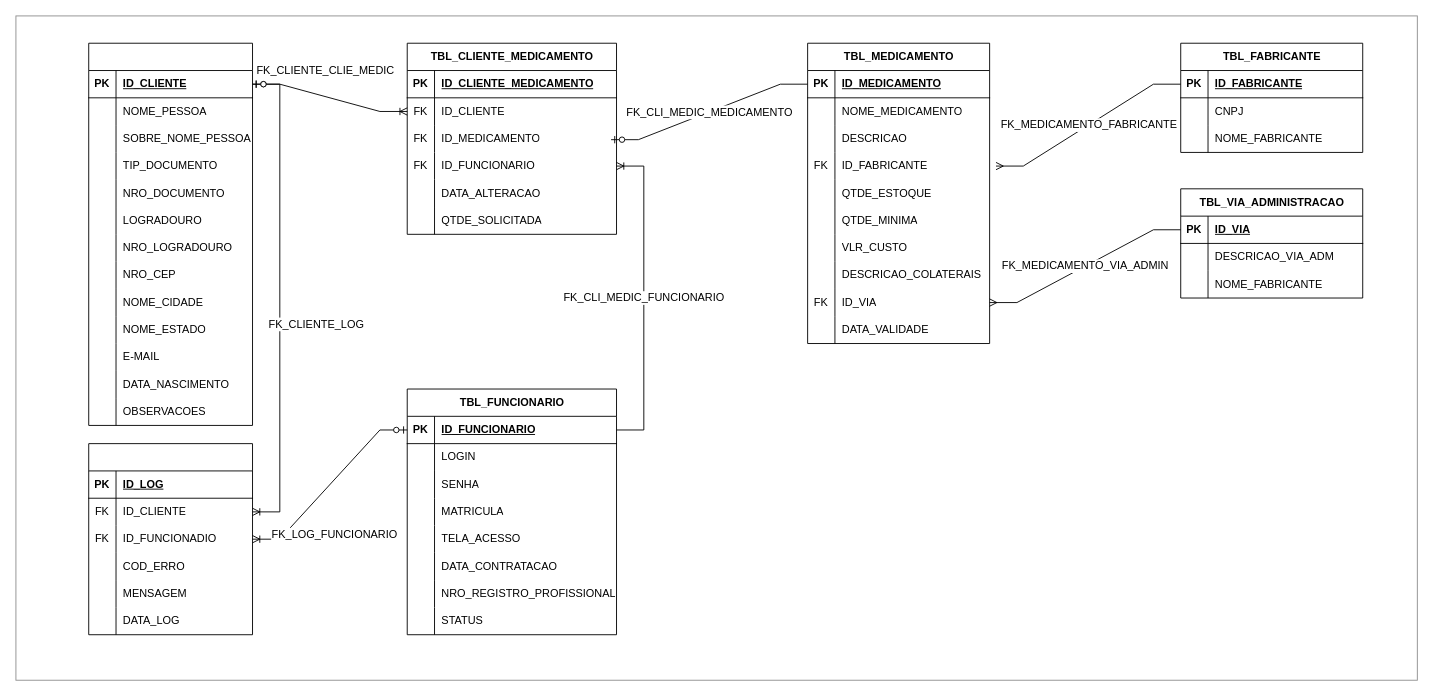
The diagram is 1433 pixels wide and 696 high, and some of its shapes have lost their labels. Here are the shapes that lost their labels. From the top down, the box of each, then its label:
(88, 42, 253, 425): TBL_CLIENTE
(88, 443, 253, 635): TBL_LOG
